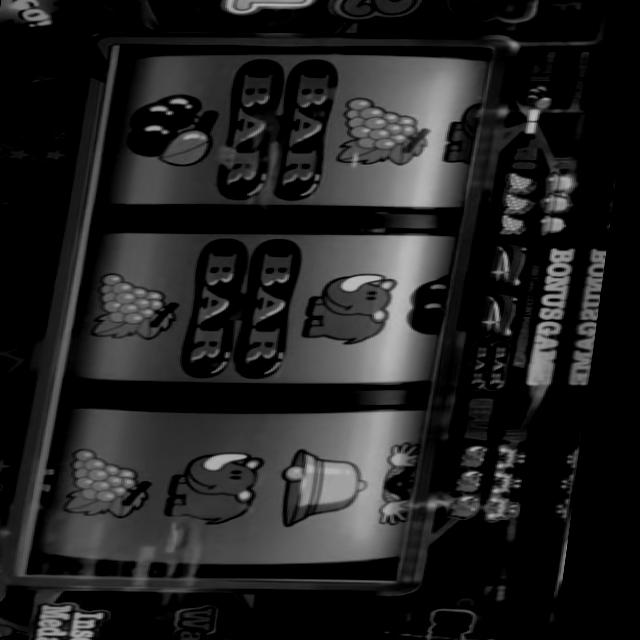bar: (220, 58, 345, 202), (190, 238, 312, 380), (475, 342, 527, 392)
bell: (291, 448, 387, 528), (546, 173, 584, 194), (545, 194, 583, 213), (542, 216, 577, 235)
cherry: (128, 90, 225, 168), (415, 273, 462, 337), (518, 82, 558, 108)
clown: (390, 440, 437, 526), (493, 498, 544, 524), (498, 443, 545, 469), (496, 471, 543, 495)
display: (32, 42, 495, 580)
elephant: (172, 449, 283, 526), (309, 271, 407, 347), (445, 100, 492, 168), (463, 469, 499, 495), (459, 497, 496, 521), (467, 442, 499, 468)
grape: (70, 448, 169, 519), (339, 96, 439, 166), (95, 273, 194, 340), (503, 214, 535, 237), (508, 172, 540, 194), (505, 196, 539, 216)
z: (481, 292, 530, 340), (490, 241, 539, 287)
